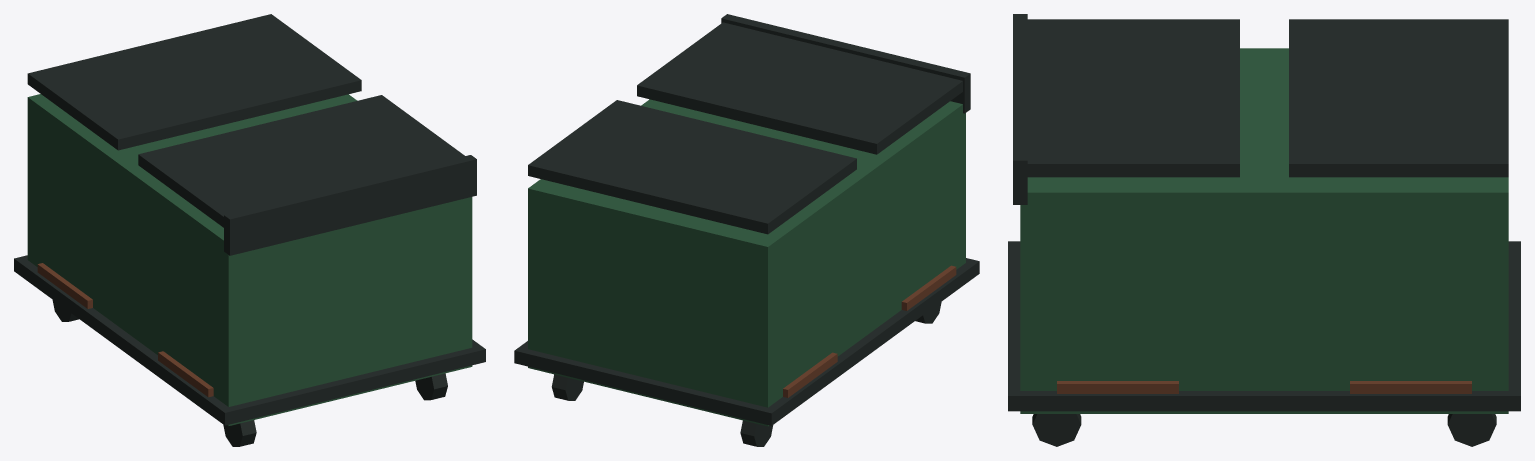
The model's file is dumpster.glb.
3 renders of one model, left to right at view 1: azimuth 30°, elevation 25°; view 2: azimuth 150°, elevation 25°; view 3: azimuth 270°, elevation 25°, orthographic. The views are drawn at different scales.
Visible parts, largest first — view 1: dumpster; view 2: dumpster; view 3: dumpster.
Boxes of the visible parts, x1=… form: dumpster: x1=14, y1=14, x2=485, y2=446; dumpster: x1=514, y1=14, x2=979, y2=446; dumpster: x1=1008, y1=14, x2=1520, y2=446.
Size of the model in its own units: 1.5 by 1.35 by 2.1.
